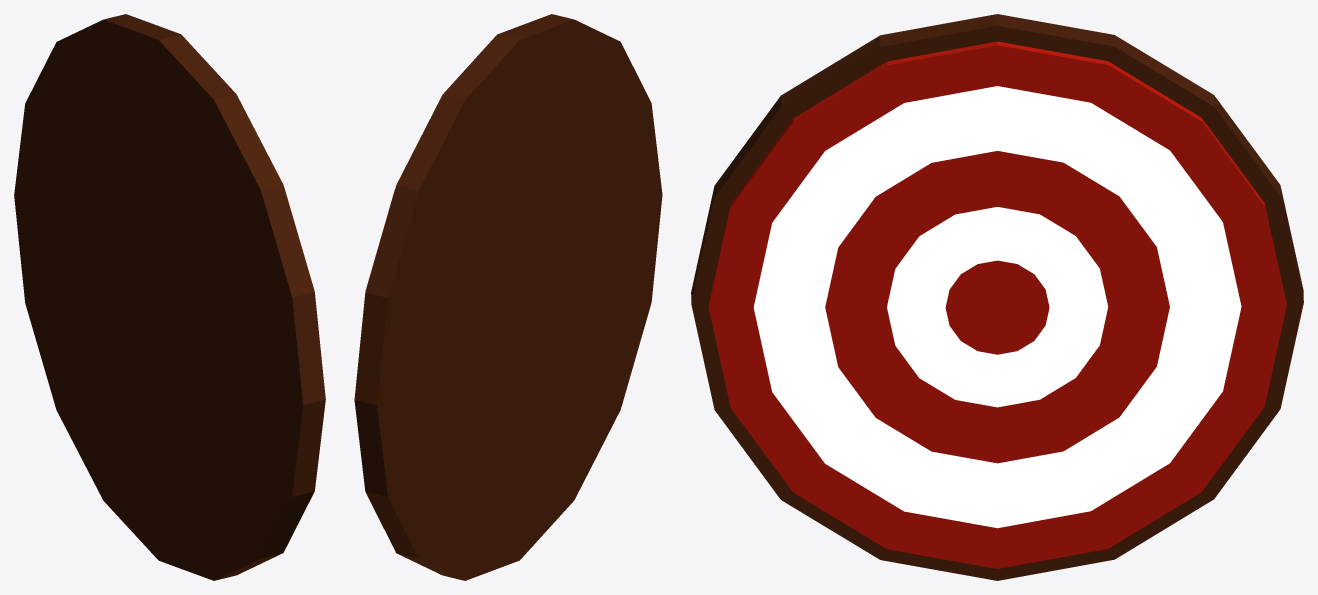
File: Target.fbx
3 views of the same model, side by side, from view 1: azimuth 30°, elevation 25°; view 2: azimuth 150°, elevation 25°; view 3: azimuth 270°, elevation 25° (orthographic). The views are drawn at different scales.
Visible parts, largest first — view 1: Target; view 2: Target; view 3: Target.
Boxes of the visible parts, x1,y1,x2,y2 form: Target: (14,14,325,580); Target: (354,14,662,580); Target: (691,14,1303,580).
Bounding box in the file's own units: 122 × 1929 × 1930.
